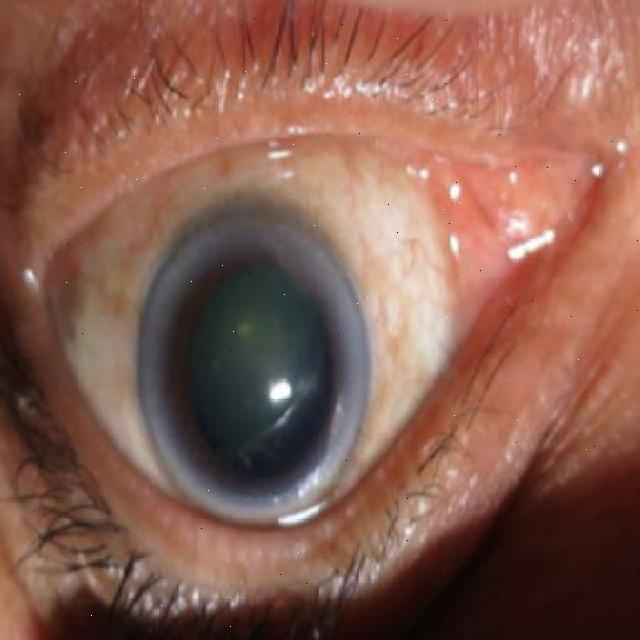Cataract: (139, 203, 371, 526)
